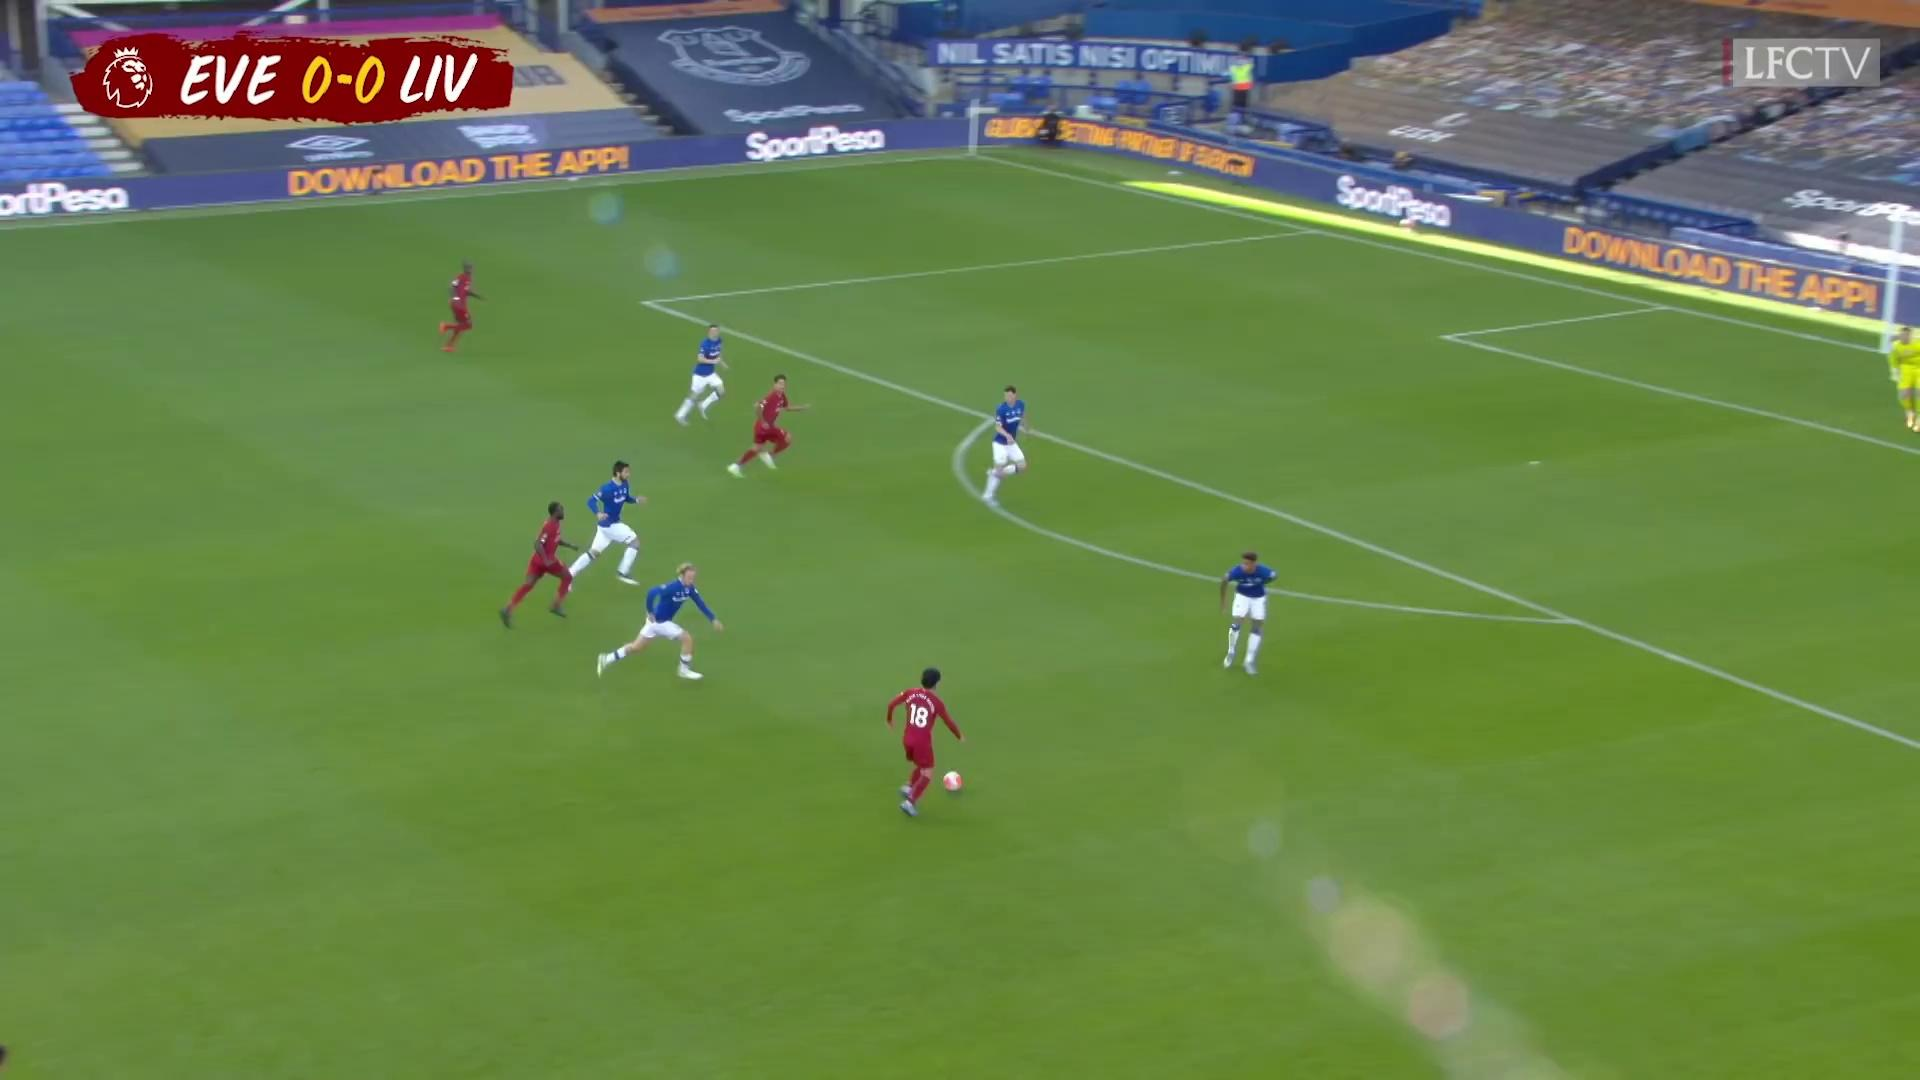ball: (942, 770, 964, 794)
